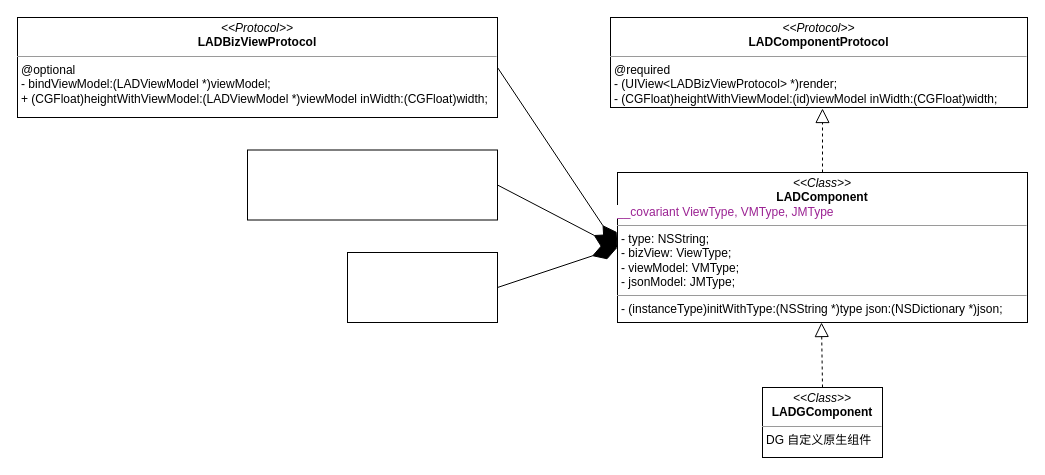
This 1045x475 diagram has some shape labels left out. Each missing label, with the centre of its shape:
<<Class>> LADViewModel - relatedComponent: LADComponent: weak: point 372,184
<<Class>> TBJSONModel 提供一些模型转换的方法: point 422,287
